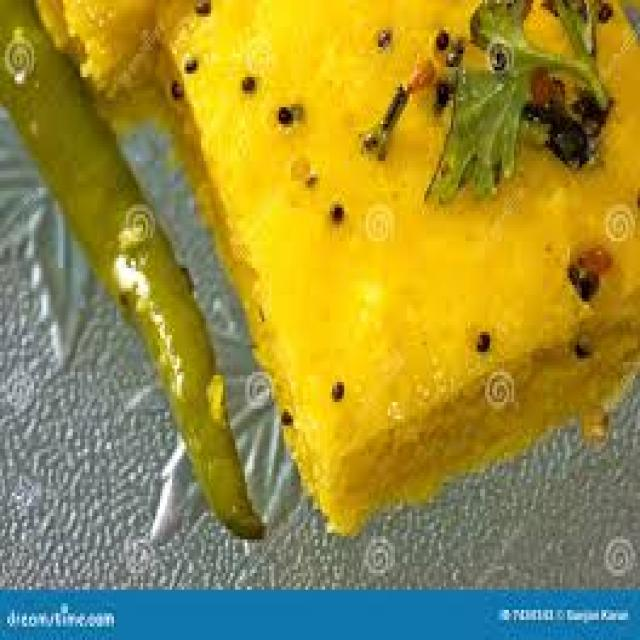DHOKLA: (28, 0, 638, 548)
